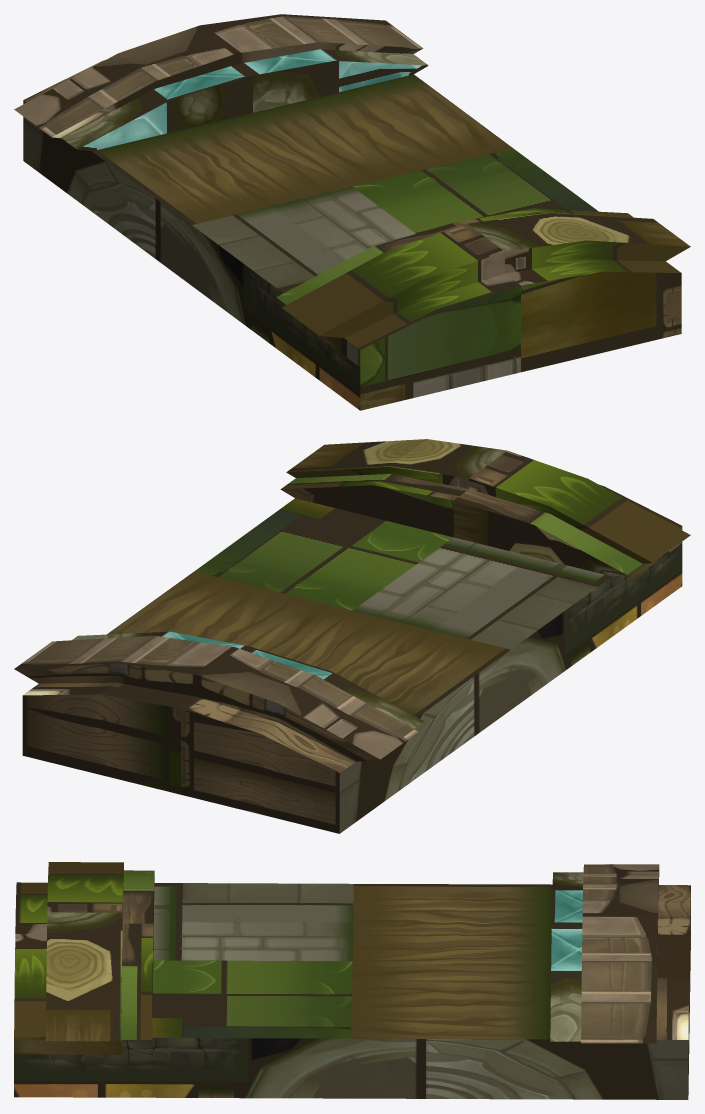
The model's file is Concrete_Bridge 01.fbx.
3 views of the same model, one above another, from view 1: azimuth 30°, elevation 25°; view 2: azimuth 150°, elevation 25°; view 3: azimuth 270°, elevation 25° (orthographic).
Parts seen in each view (by area): view 1: Concrete_Bridge; view 2: Concrete_Bridge; view 3: Concrete_Bridge.
Part boxes in pixels (left/top/right/bottom): Concrete_Bridge: left=14, top=14, right=690, bottom=410; Concrete_Bridge: left=14, top=439, right=690, bottom=833; Concrete_Bridge: left=14, top=862, right=690, bottom=1099.
Size of the model in its own units: 320 by 89.77 by 508.
